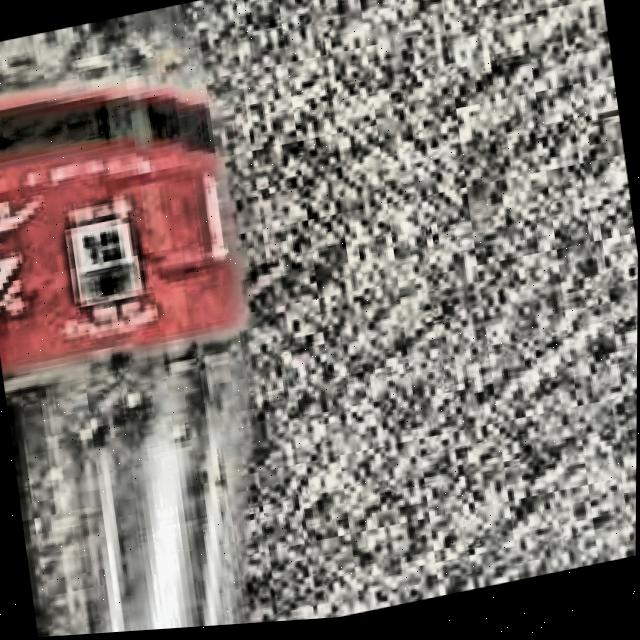plastic: (0, 0, 307, 640)
